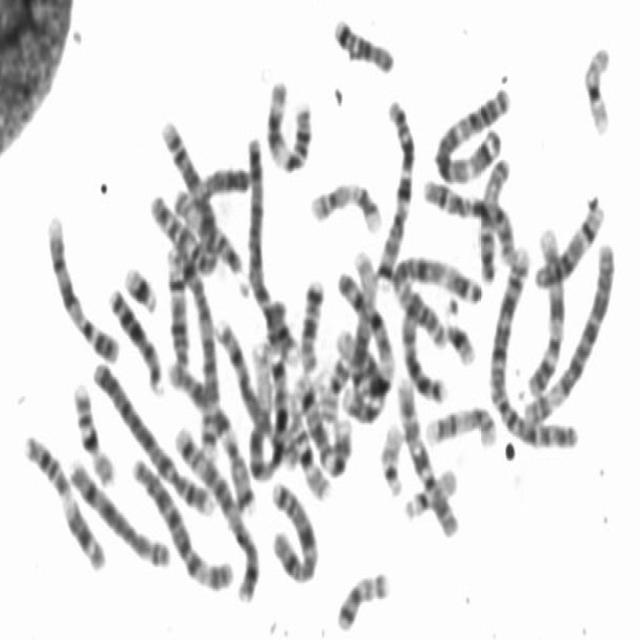A1: (329, 247, 396, 425), (242, 341, 292, 483)
A2: (484, 236, 583, 450), (154, 111, 222, 277)
A3: (389, 245, 484, 362), (429, 76, 512, 187)
B4: (87, 353, 216, 520), (240, 128, 300, 368)
B5: (170, 417, 264, 605), (160, 238, 224, 461)
C10: (391, 364, 462, 540), (419, 173, 517, 266)
C11: (18, 426, 110, 575), (260, 71, 316, 176)
C12: (290, 368, 354, 480), (331, 320, 390, 423)
C6: (519, 235, 617, 424), (128, 445, 238, 596)
C7: (167, 356, 260, 518), (371, 92, 417, 288)
C8: (211, 311, 300, 474), (65, 448, 176, 570)
C9: (42, 204, 123, 366), (525, 220, 568, 399)
D13: (105, 277, 166, 396), (396, 292, 450, 406)
D14: (531, 190, 609, 292), (162, 241, 193, 377)
D15: (163, 179, 250, 280), (473, 147, 512, 287)
E16: (282, 394, 334, 504), (67, 375, 117, 488)
E17: (304, 171, 384, 236), (422, 398, 500, 450)
E18: (328, 8, 398, 76), (295, 269, 326, 374)
F19: (577, 35, 615, 139), (172, 170, 216, 217)
F20: (331, 562, 393, 636), (315, 350, 349, 425)
G21: (438, 286, 478, 368), (119, 255, 161, 315)
G22: (399, 459, 460, 522), (374, 415, 407, 499)
X: (266, 474, 321, 586)
Y: (208, 160, 252, 203)
